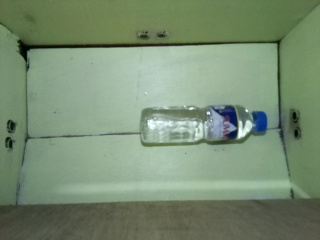bottle: (140, 102, 268, 143)
